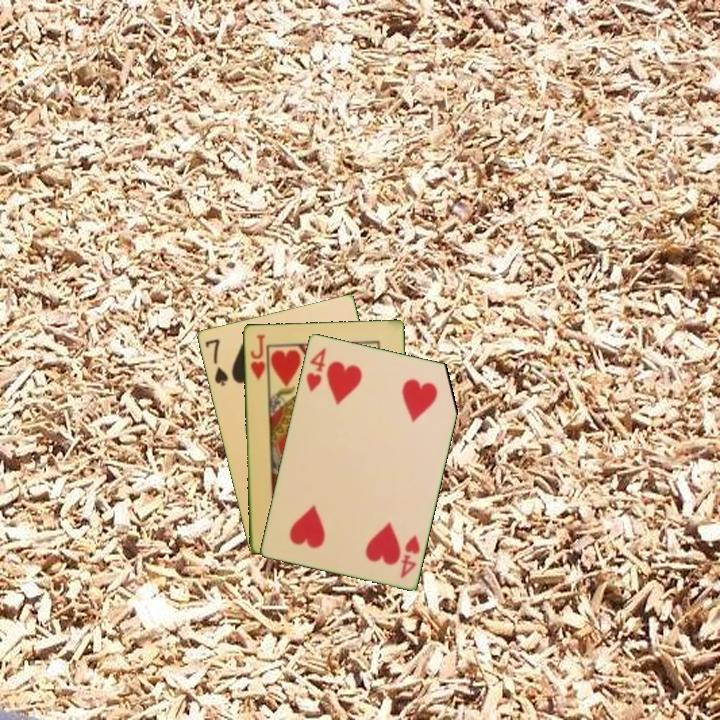4h: (302, 344, 329, 395), (397, 531, 423, 581)
7s: (201, 335, 231, 389)
Jh: (246, 331, 268, 382)
